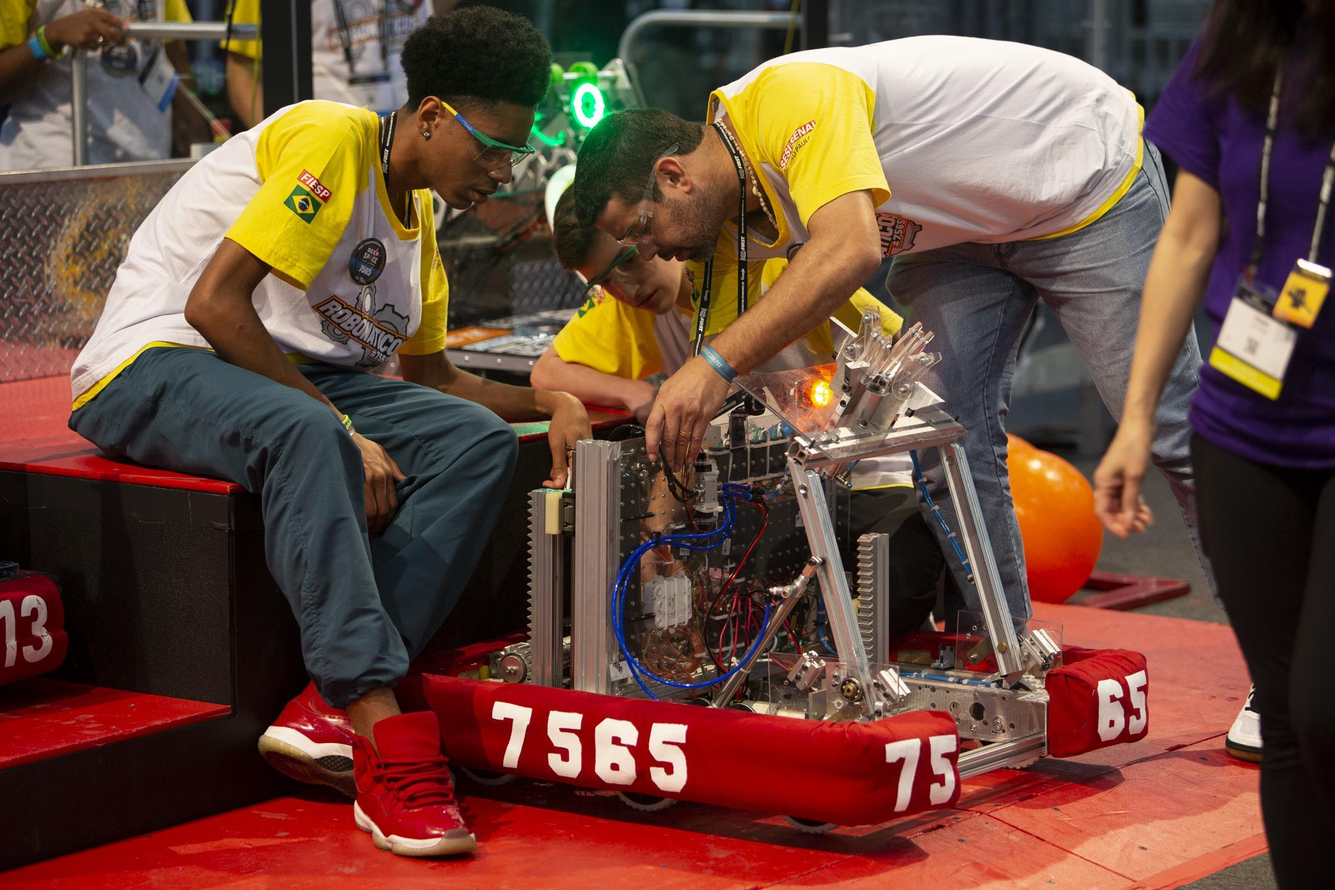robot: (363, 297, 1153, 828)
